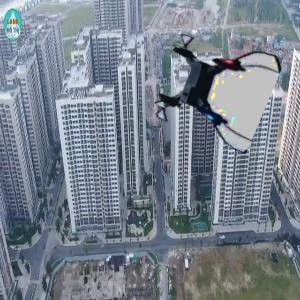drone: (157, 33, 270, 146)
